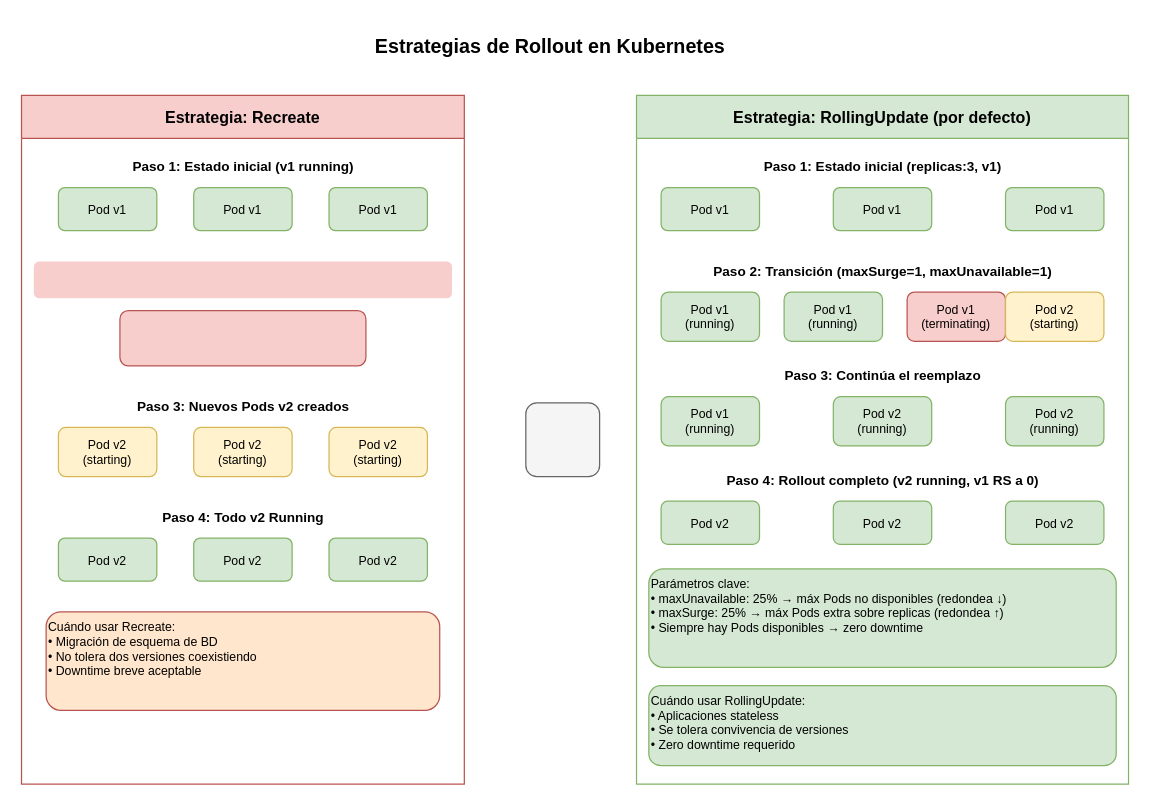
The diagram is 1150 pixels wide and 806 high, and some of its shapes have lost their labels. The centre of each missing label's shape, as x and y in pixels:
"Paso 2: Todos los Pods terminados (DOWNTIME)" goes at pixel 242 279.
"VS" goes at pixel 562 439.
"⚠ Sin Pods activos" goes at pixel 242 337.
